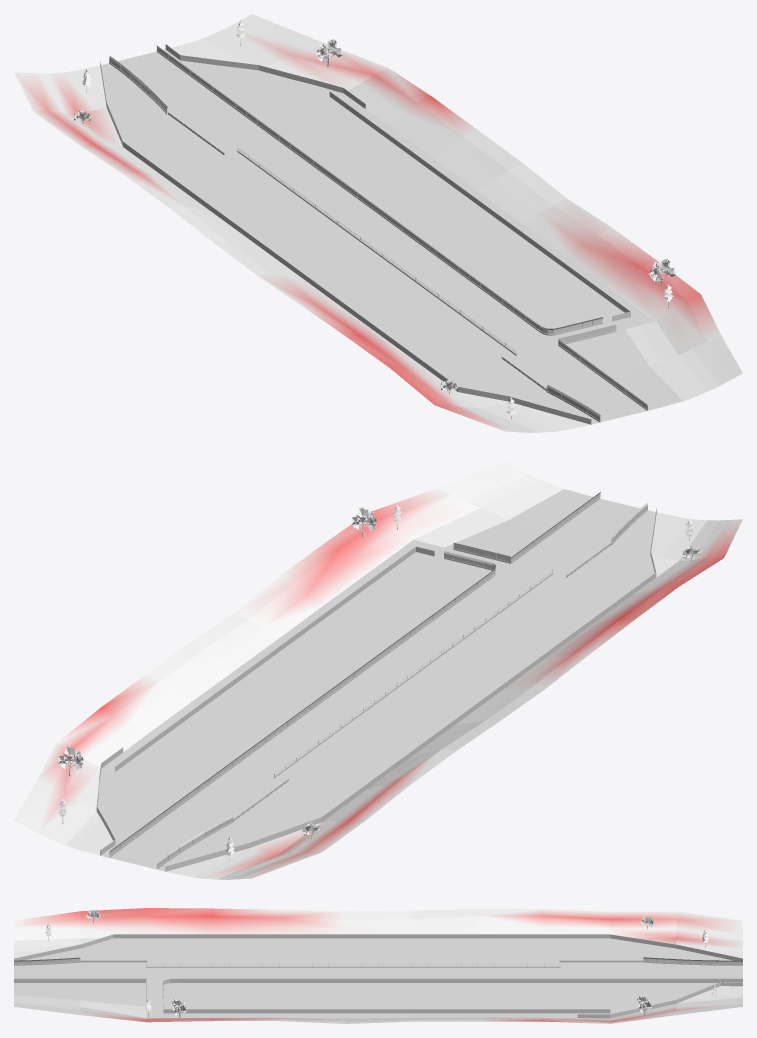
The picture shows the model from 3 angles, top to bottom: view 1: azimuth 30°, elevation 25°; view 2: azimuth 150°, elevation 25°; view 3: azimuth 270°, elevation 25°; orthographic projection. The views are drawn at different scales.
Visible parts, largest first — view 1: Track, Grass, Road, Wirefence, Trees; view 2: Track, Grass, Road, Wirefence, Trees; view 3: Track, Grass, Road, Wirefence, Trees.
Part boxes in pixels (box(x1,y1,x2,y2)): Track: box(100, 44, 682, 424); Grass: box(14, 14, 742, 432); Road: box(118, 51, 655, 422); Wirefence: box(109, 45, 647, 420); Trees: box(74, 20, 675, 419); Track: box(96, 489, 656, 871); Grass: box(14, 461, 742, 879); Road: box(101, 498, 639, 869); Wirefence: box(109, 492, 647, 867); Trees: box(58, 505, 701, 861); Track: box(14, 934, 742, 1018); Grass: box(14, 908, 742, 1023); Road: box(14, 962, 742, 1018); Wirefence: box(14, 957, 742, 997); Trees: box(45, 909, 717, 1018).
Size of what is drawn, in the model's own units: 18296 by 2322 by 50000.
